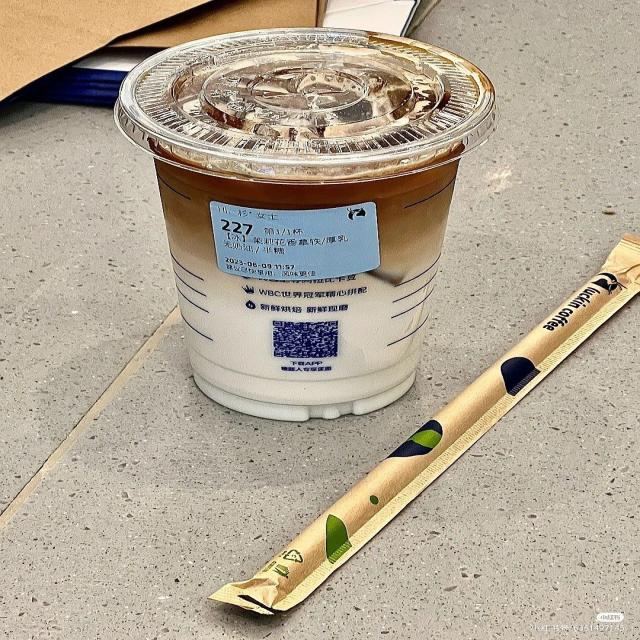plastic cup: (114, 28, 496, 422)
